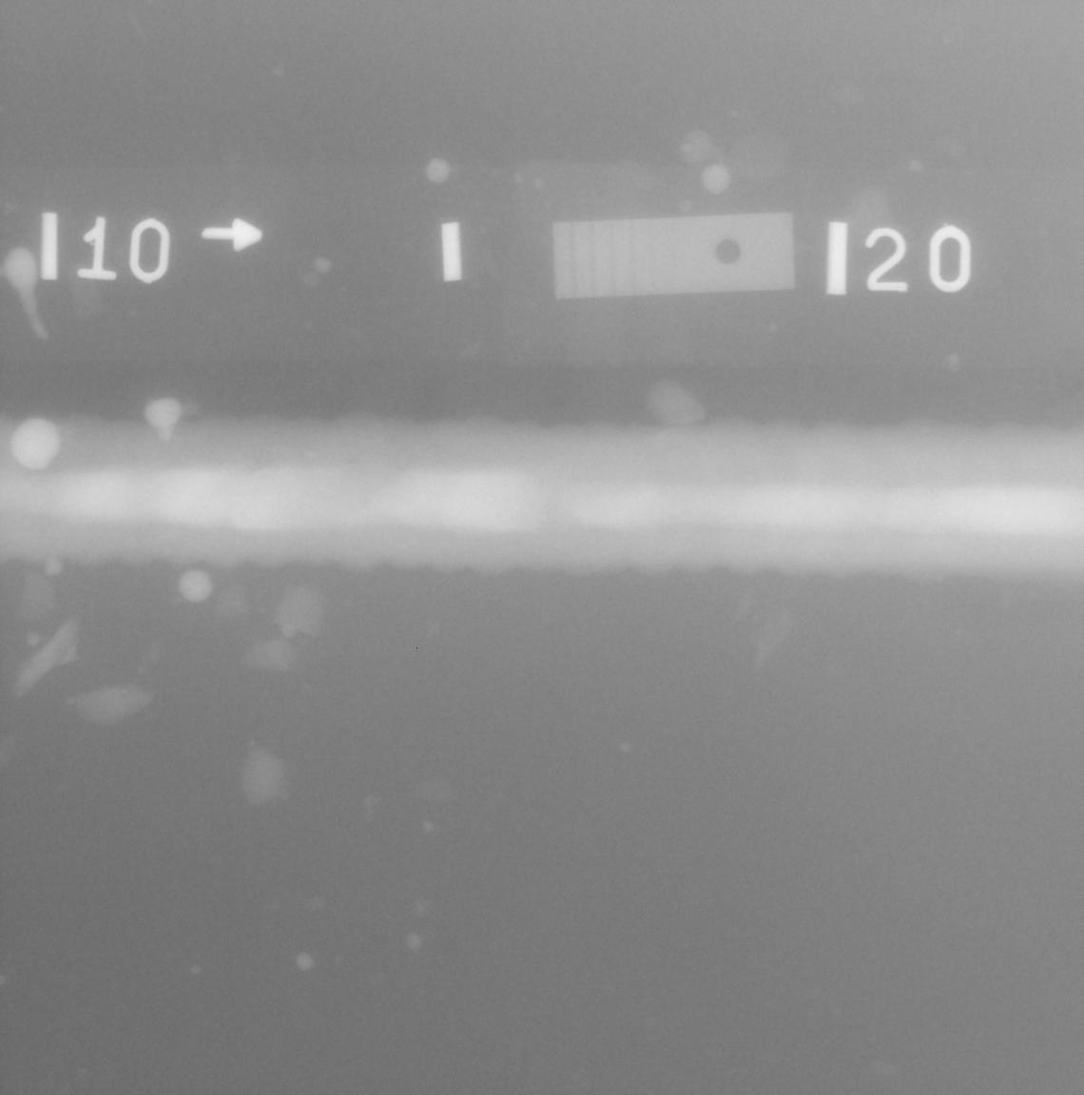Pore/Porosity: (883, 479, 891, 488), (878, 514, 881, 519)
Reference Standard 1: (553, 212, 795, 300)
